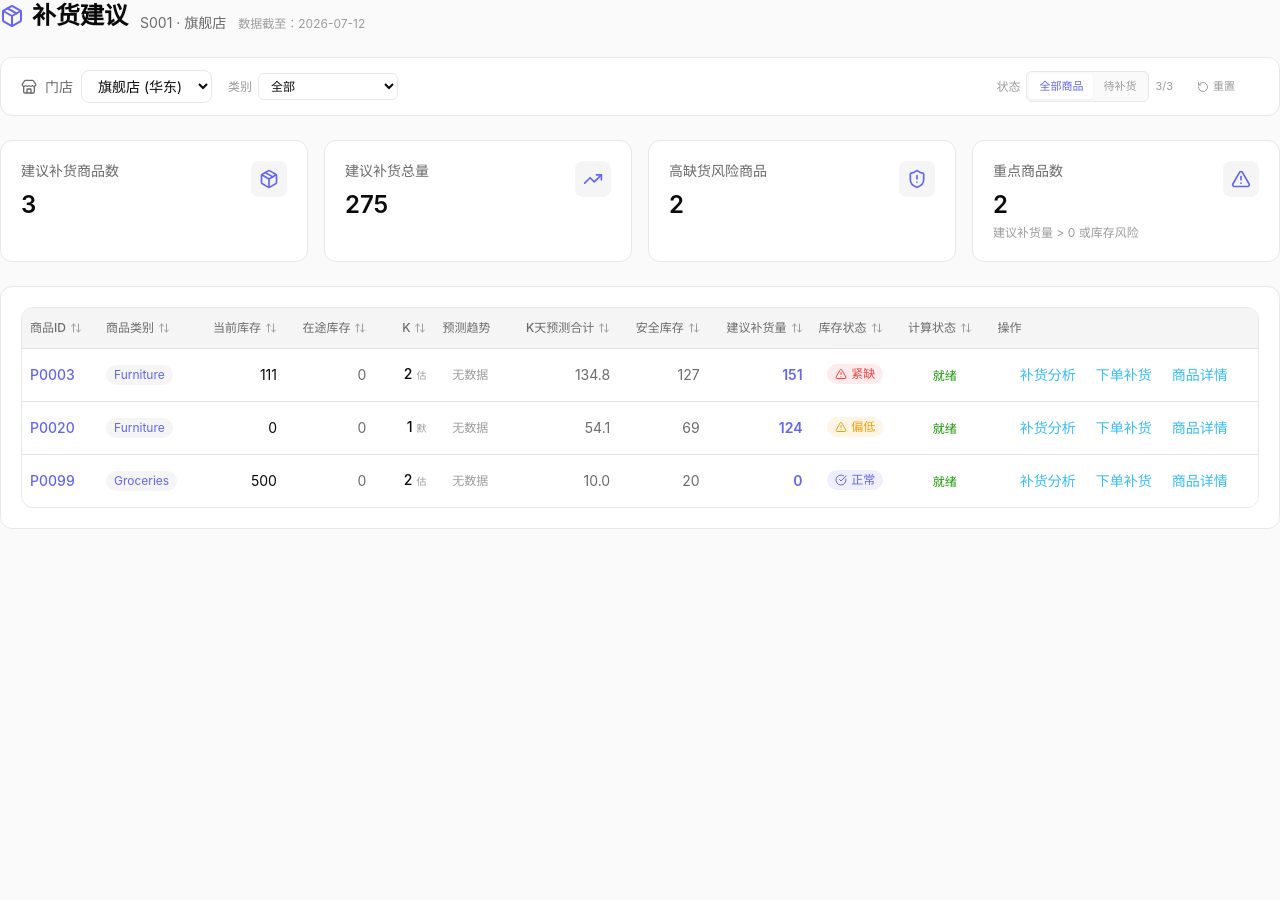
Test: ReplenishmentPage › 表格每行末尾显示“下单补货”按钮，点击后以弹层形式打开补货表单
What coordinates should you click on to do the following:
click the button "下单补货" in the row of "P0003"
I would click on:
 (1124, 374)
Its box is [1088,358,1160,390].
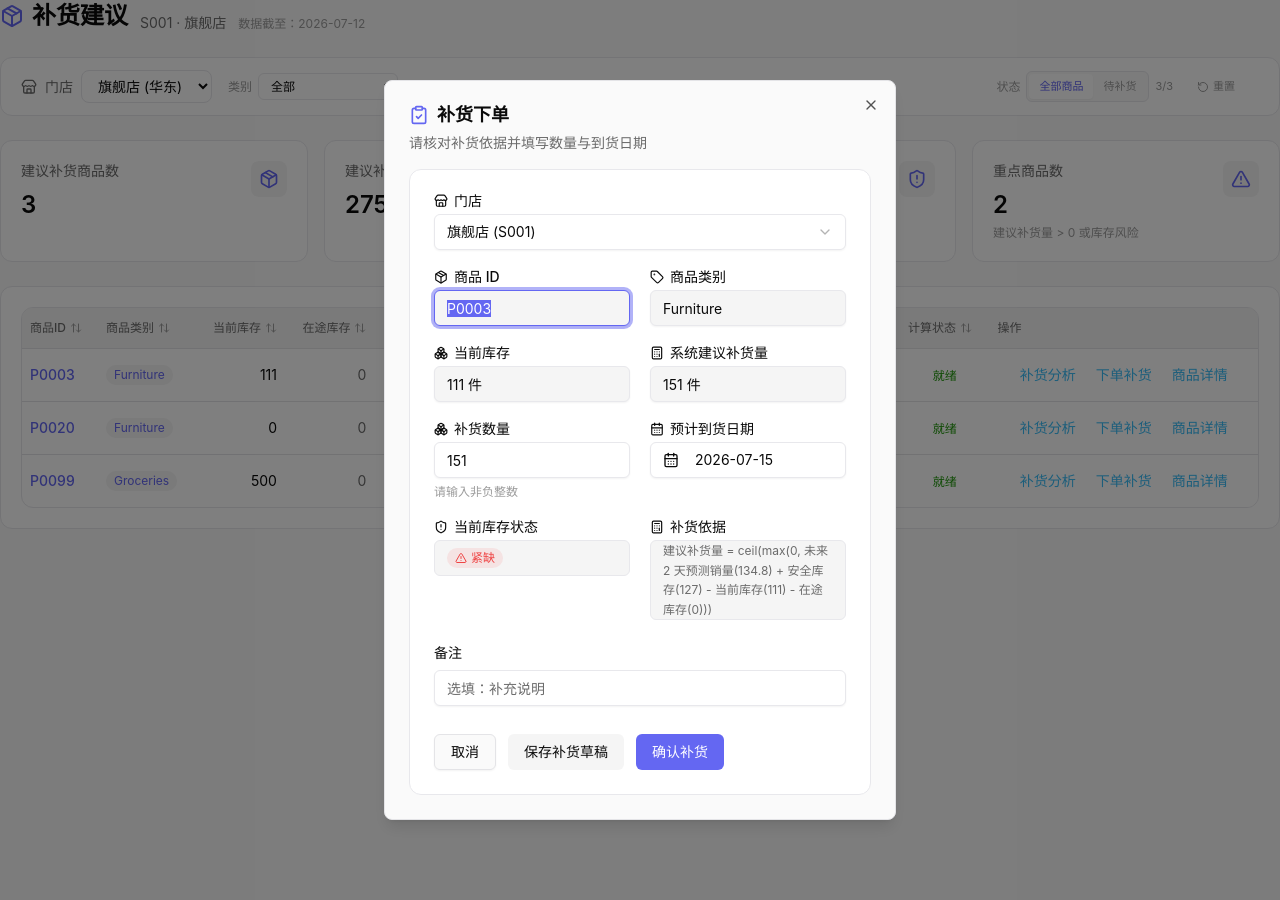
Result: the dialog is shown at [384,80,896,820]
Result: the heading "补货下单" is shown at [409,104,509,125]
Result: the field showing "P0003" is shown at [434,290,630,326]
